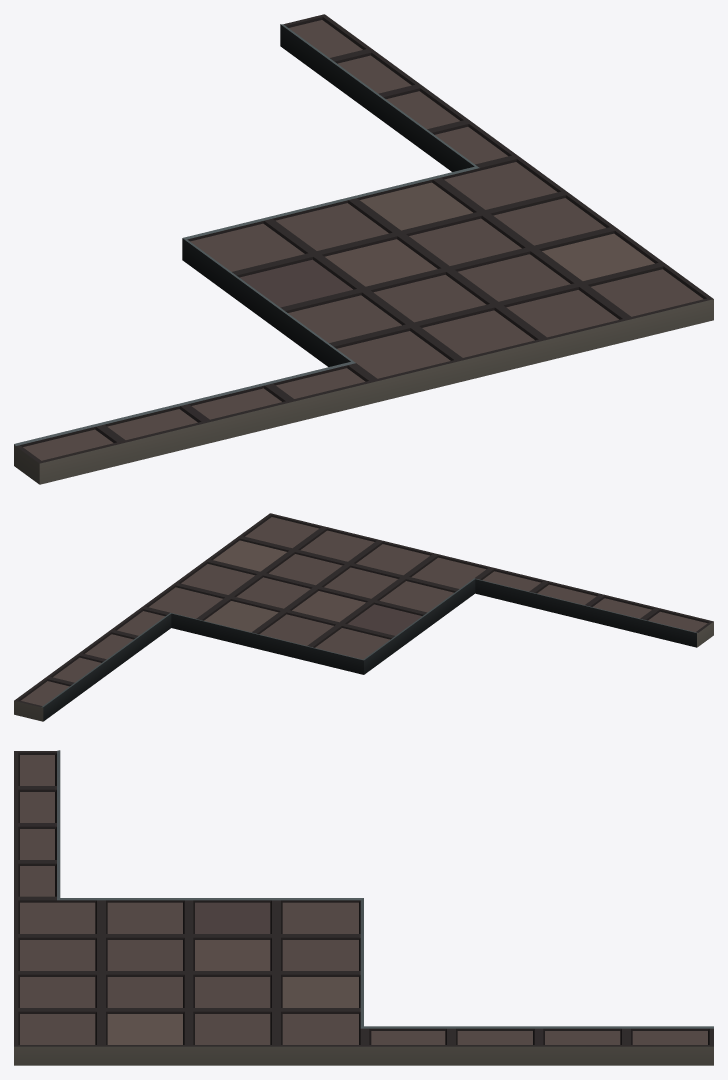
File: TSP_House_Floor_Small_02B_Open_Corner.fbx
The picture shows the model from 3 angles, top to bottom: view 1: azimuth 30°, elevation 25°; view 2: azimuth 150°, elevation 25°; view 3: azimuth 270°, elevation 25°; orthographic projection. The views are drawn at different scales.
Visible parts, largest first — view 1: TSP_House_Floor_Small_02B_Open_Corner; view 2: TSP_House_Floor_Small_02B_Open_Corner; view 3: TSP_House_Floor_Small_02B_Open_Corner.
Boxes of the visible parts, box(x1,y1,x2,y2) form: TSP_House_Floor_Small_02B_Open_Corner: box(14, 14, 713, 484); TSP_House_Floor_Small_02B_Open_Corner: box(14, 513, 713, 721); TSP_House_Floor_Small_02B_Open_Corner: box(14, 750, 713, 1065).
Size of the model in its own units: 4 by 0.125 by 4.
